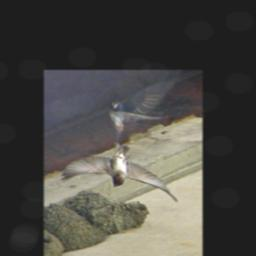Swallow: (58, 140, 180, 203)
